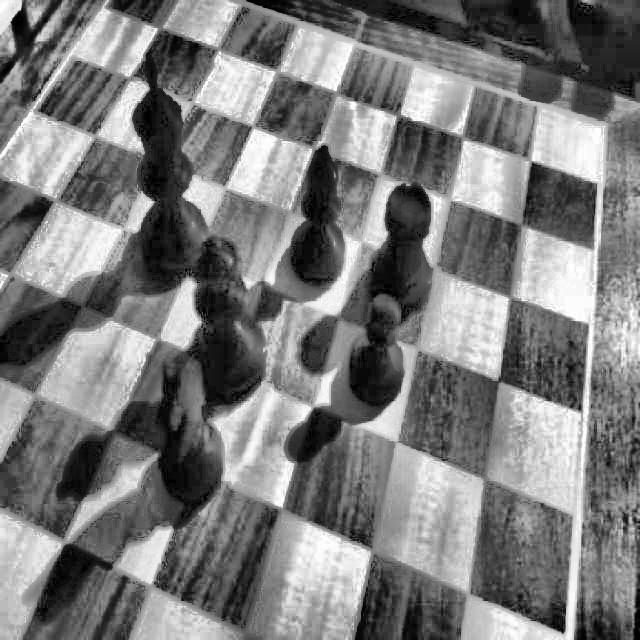black-bishop: (286, 142, 353, 290)
black-king: (131, 57, 214, 281)
black-knight: (149, 348, 230, 512)
black-pawn: (346, 290, 417, 409)
black-queen: (189, 228, 273, 406)
black-rook: (372, 176, 440, 315)
